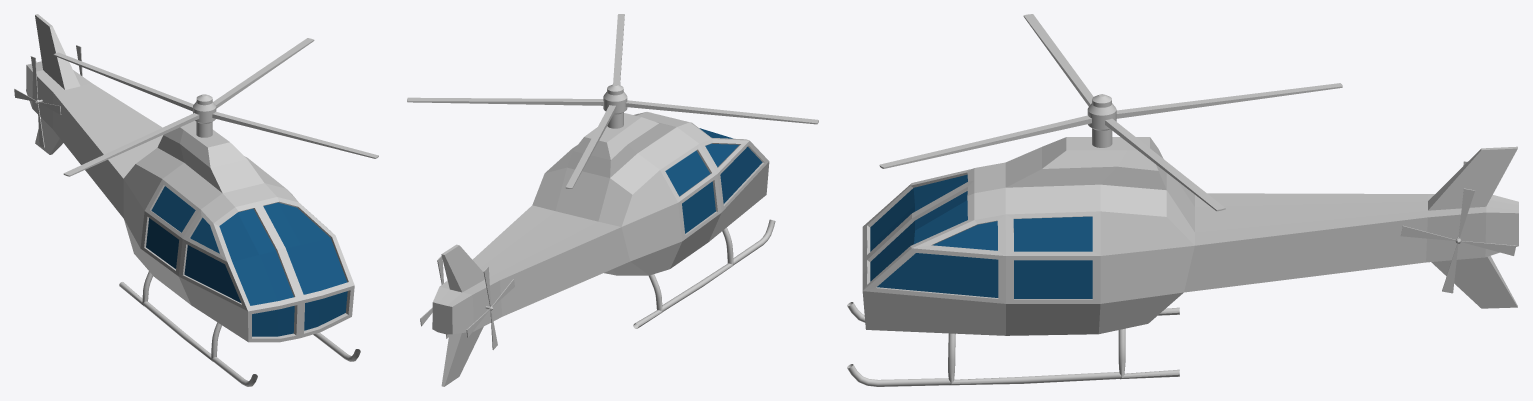
File: helicopter_animation_000014.obj
3 renders of one model, left to right at view 1: azimuth 30°, elevation 25°; view 2: azimuth 150°, elevation 25°; view 3: azimuth 270°, elevation 25°, orthographic. The views are drawn at different scales.
Visible parts, largest first — view 1: Helicopter.007_Cylinder.008, Helicopter.001_Cylinder.001, Helicopter.004_Cylinder.005; view 2: Helicopter.007_Cylinder.008, Helicopter.001_Cylinder.001, Helicopter.004_Cylinder.005; view 3: Helicopter.007_Cylinder.008, Helicopter.001_Cylinder.001, Helicopter.003_Cylinder.004.
Boxes of the visible parts, x1,y1,x2,y2 form: Helicopter.007_Cylinder.008: (26, 14, 360, 386); Helicopter.001_Cylinder.001: (53, 38, 378, 176); Helicopter.004_Cylinder.005: (14, 56, 61, 147); Helicopter.007_Cylinder.008: (432, 112, 775, 386); Helicopter.001_Cylinder.001: (407, 14, 818, 188); Helicopter.004_Cylinder.005: (466, 266, 514, 349); Helicopter.007_Cylinder.008: (847, 137, 1518, 386); Helicopter.001_Cylinder.001: (879, 14, 1342, 211); Helicopter.003_Cylinder.004: (1401, 188, 1516, 293).
Size of the model in its own units: 5.17 by 3.2 by 7.49.
